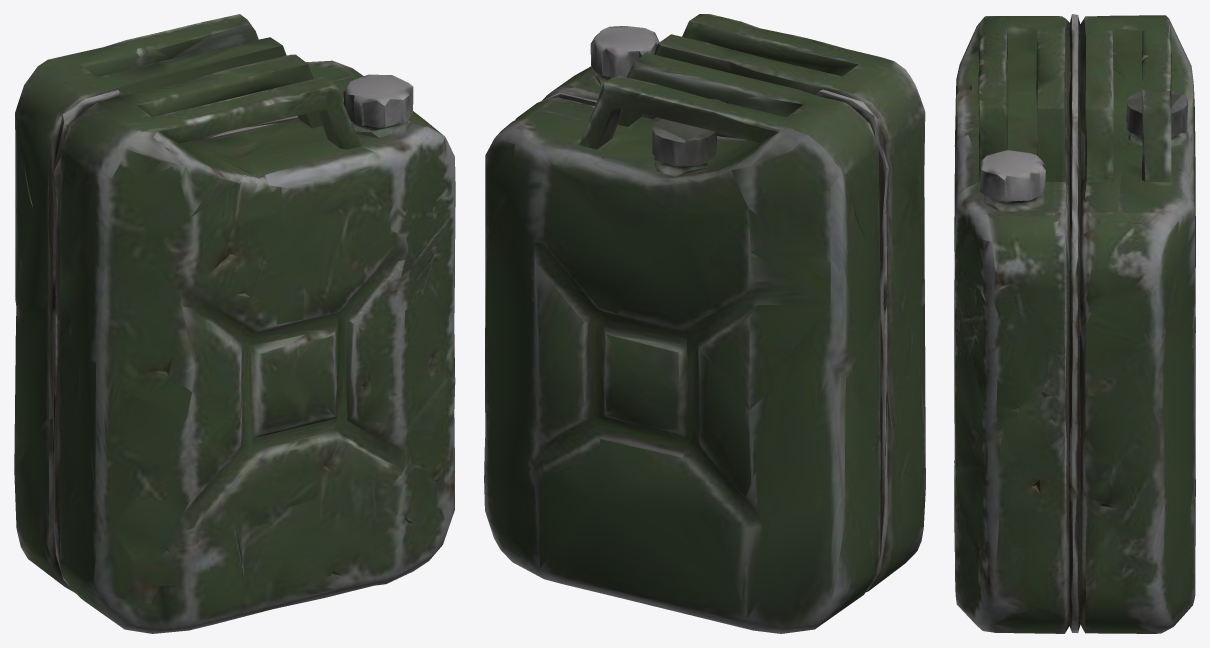
Rendered from fuel_canister_5_l_idle.glb.
The picture shows the model from 3 angles, left to right: view 1: azimuth 30°, elevation 25°; view 2: azimuth 150°, elevation 25°; view 3: azimuth 270°, elevation 25°; orthographic projection. The views are drawn at different scales.
Visible parts, largest first — view 1: tripo_node_42bdf529-afc2-42df-a7a4-8f13f9e48bcb; view 2: tripo_node_42bdf529-afc2-42df-a7a4-8f13f9e48bcb; view 3: tripo_node_42bdf529-afc2-42df-a7a4-8f13f9e48bcb.
Boxes of the visible parts, x1,y1,x2,y2 form: tripo_node_42bdf529-afc2-42df-a7a4-8f13f9e48bcb: [14, 14, 455, 633]; tripo_node_42bdf529-afc2-42df-a7a4-8f13f9e48bcb: [484, 14, 925, 633]; tripo_node_42bdf529-afc2-42df-a7a4-8f13f9e48bcb: [954, 14, 1195, 633].
Size of the model in its own units: 0.3397 by 0.4497 by 0.2035.
Materials: 1 (1 with a texture image).
